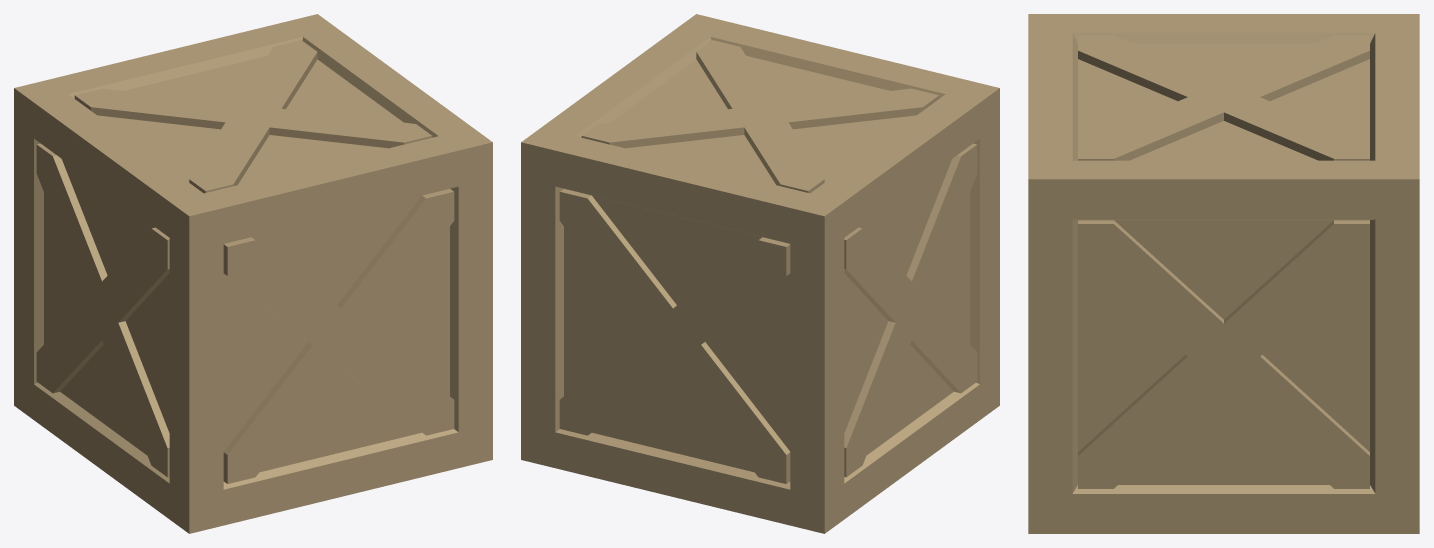
File: Crate1.fbx
The picture shows the model from 3 angles, left to right: view 1: azimuth 30°, elevation 25°; view 2: azimuth 150°, elevation 25°; view 3: azimuth 270°, elevation 25°; orthographic projection. The views are drawn at different scales.
Visible parts, largest first — view 1: Whole Crate.005; view 2: Whole Crate.005; view 3: Whole Crate.005.
Part boxes in pixels (box(x1,y1,x2,y2)): Whole Crate.005: box(14, 14, 492, 533); Whole Crate.005: box(521, 14, 999, 533); Whole Crate.005: box(1028, 14, 1419, 533).
Bounding box in the file's own units: 1016 × 1016 × 1016.
